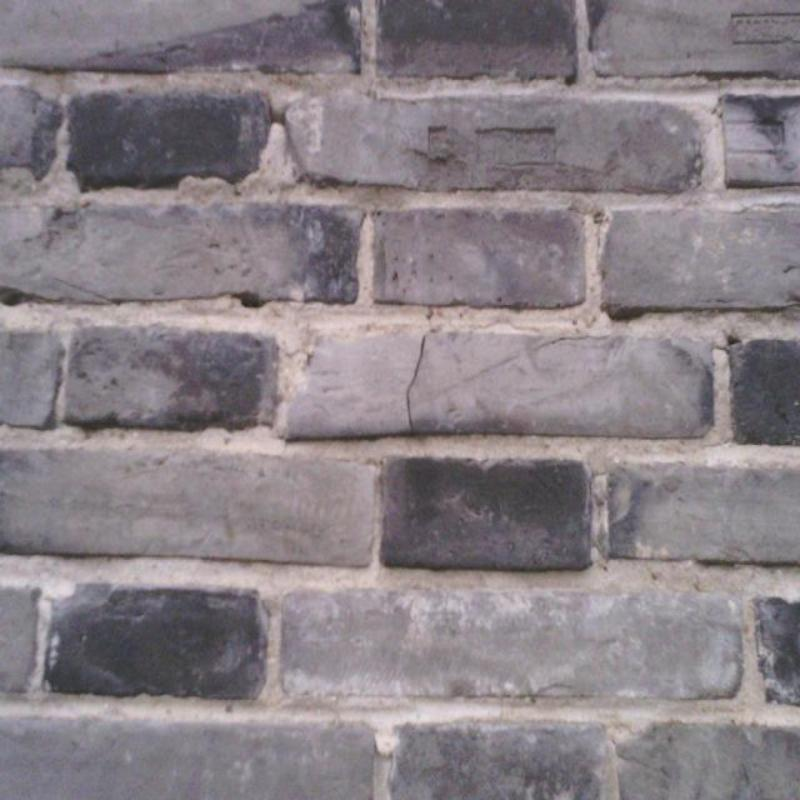pothole: (406, 334, 426, 434), (242, 300, 264, 308)
